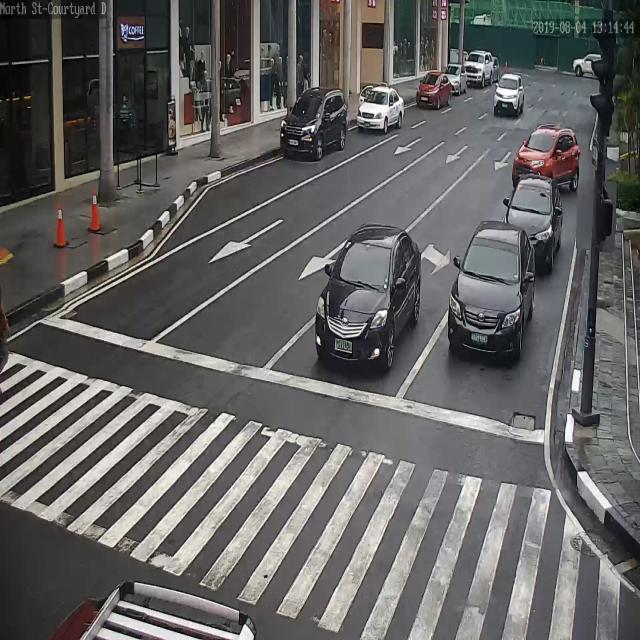car: (314, 223, 423, 373), (448, 222, 533, 361), (503, 176, 564, 270), (279, 85, 350, 162), (511, 124, 580, 187), (359, 84, 406, 134), (491, 73, 525, 120), (416, 70, 452, 109), (465, 50, 499, 86), (572, 53, 601, 79), (443, 63, 467, 93)
